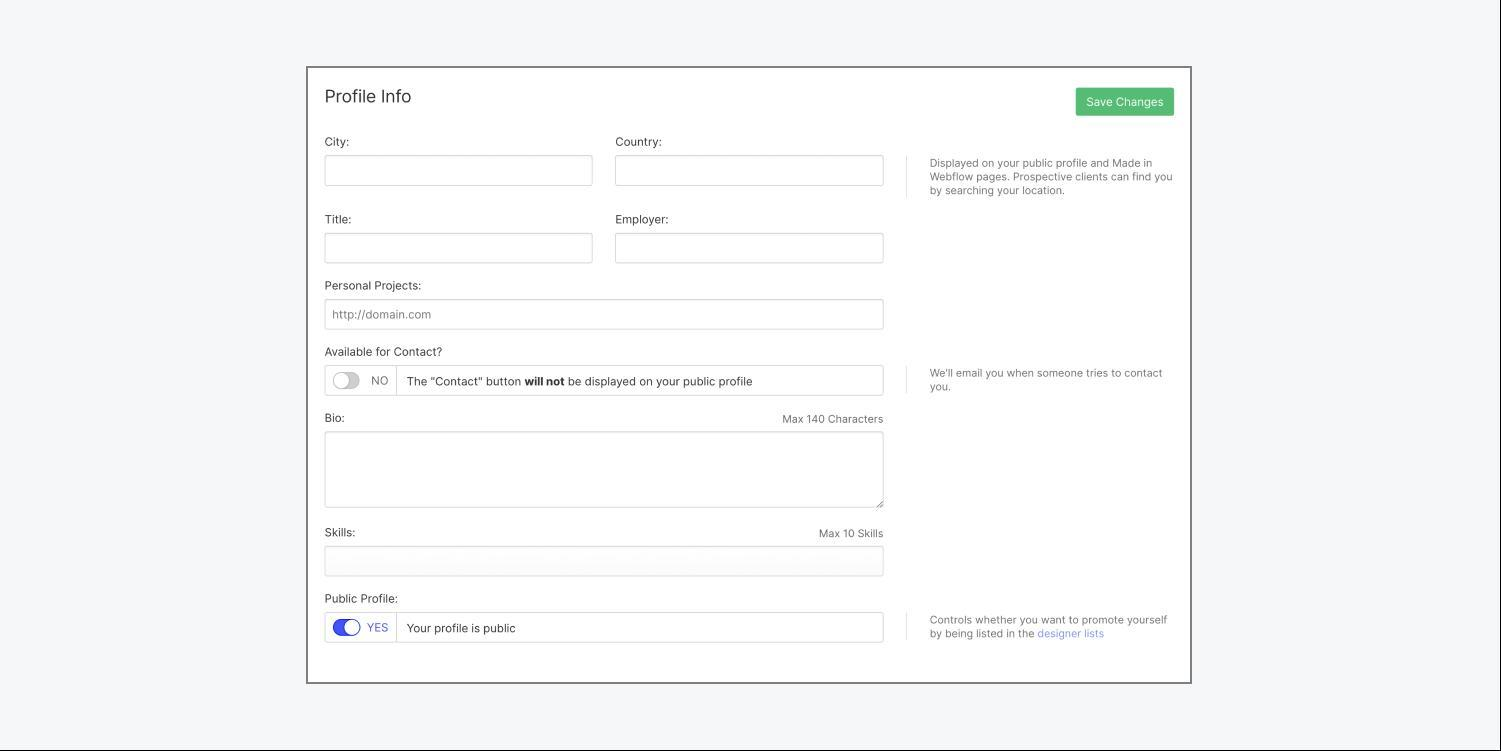button: (1078, 89, 1175, 118)
input: (327, 432, 884, 509), (326, 547, 886, 579), (327, 300, 886, 332), (397, 364, 884, 399), (396, 614, 885, 646), (616, 153, 885, 187), (616, 232, 883, 266), (326, 156, 596, 187), (327, 234, 593, 264)
label: (323, 345, 447, 361), (323, 279, 424, 297), (782, 411, 887, 427), (323, 591, 403, 609), (816, 525, 886, 541), (611, 213, 673, 229), (615, 135, 664, 151), (322, 526, 361, 543), (322, 134, 352, 152), (323, 212, 355, 228), (323, 411, 350, 428), (369, 374, 393, 390), (367, 619, 390, 634)
switch: (330, 369, 366, 394), (328, 618, 364, 639)
